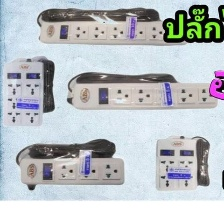three_eye_plug: (34, 13, 191, 48), (65, 77, 220, 111), (15, 151, 127, 189), (0, 58, 45, 130), (150, 133, 201, 193)
